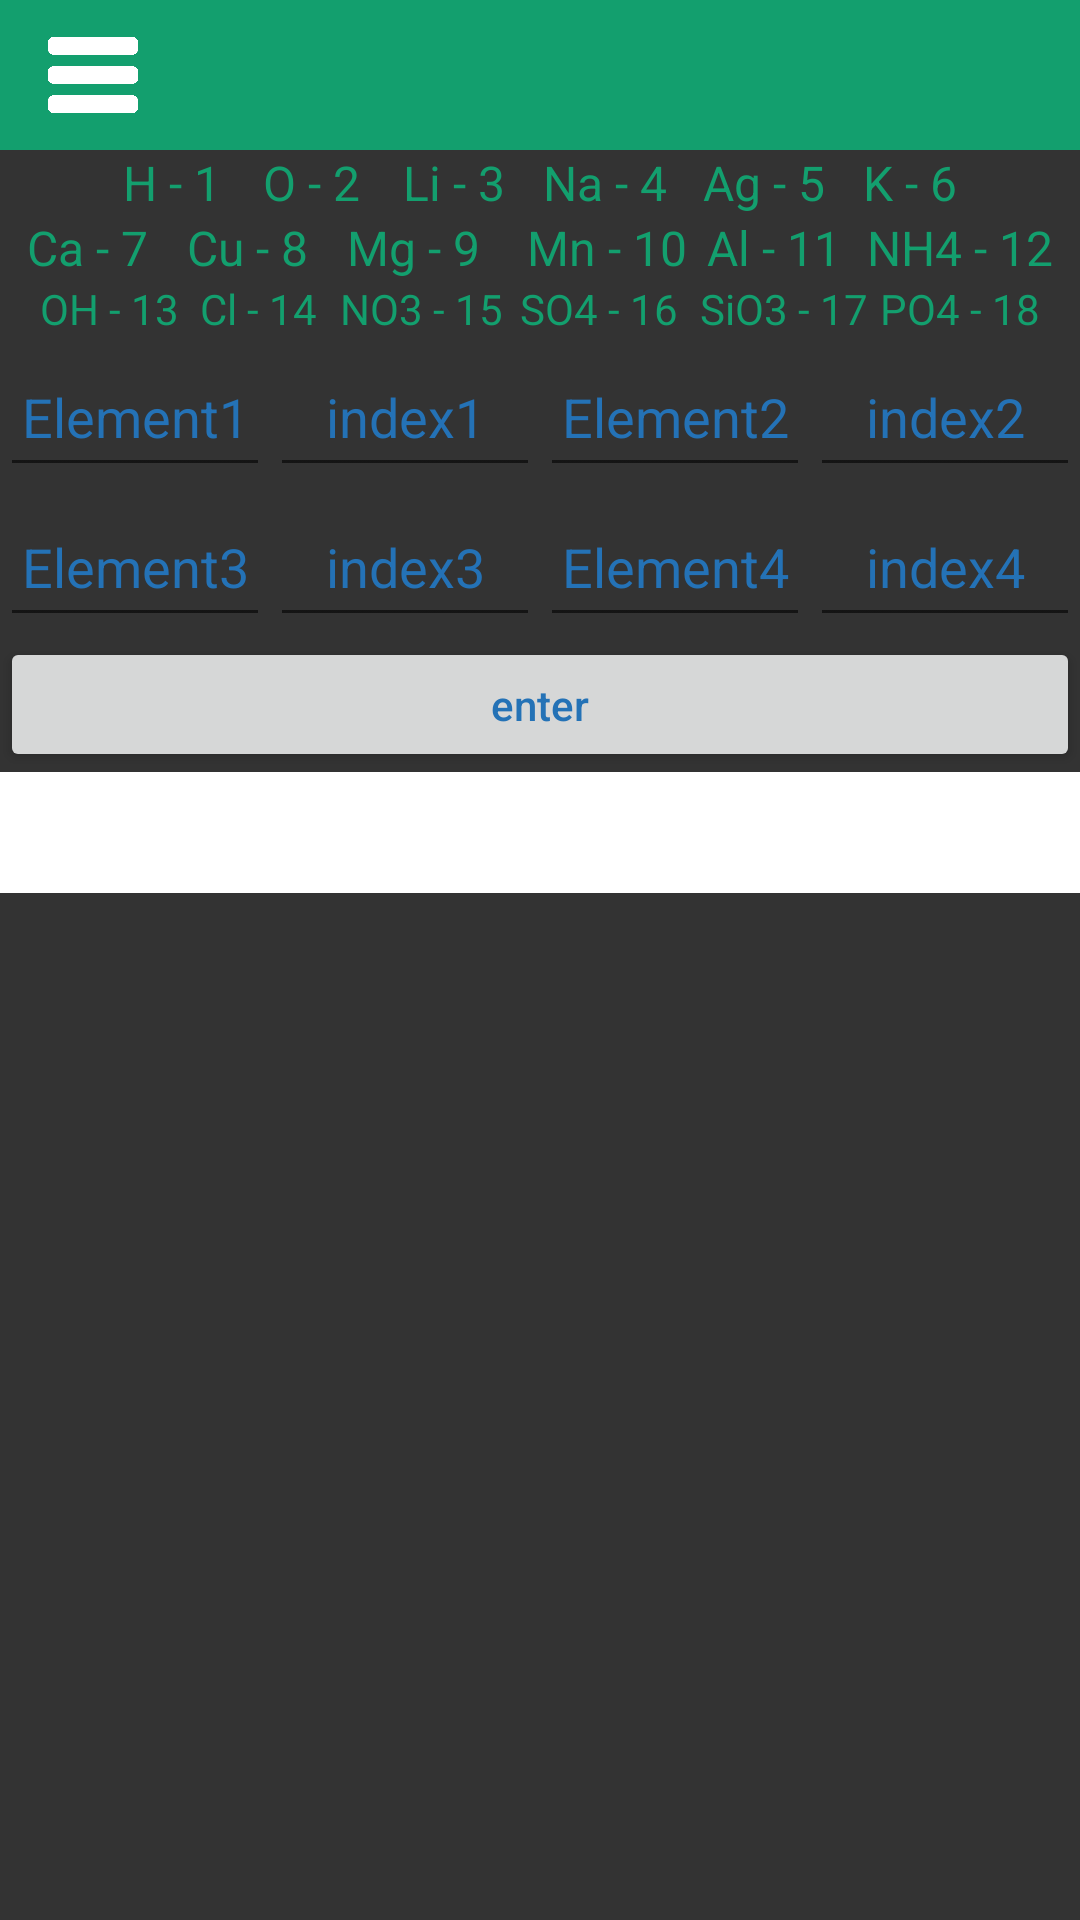

Icon bounding boxes for this 1080 × 1920 phone screenshot, format rect(x1, y1, x2, y2):
three stick: rect(48, 37, 138, 113)
